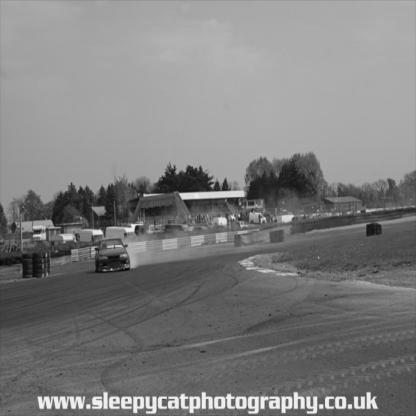car: (91, 233, 146, 279)
